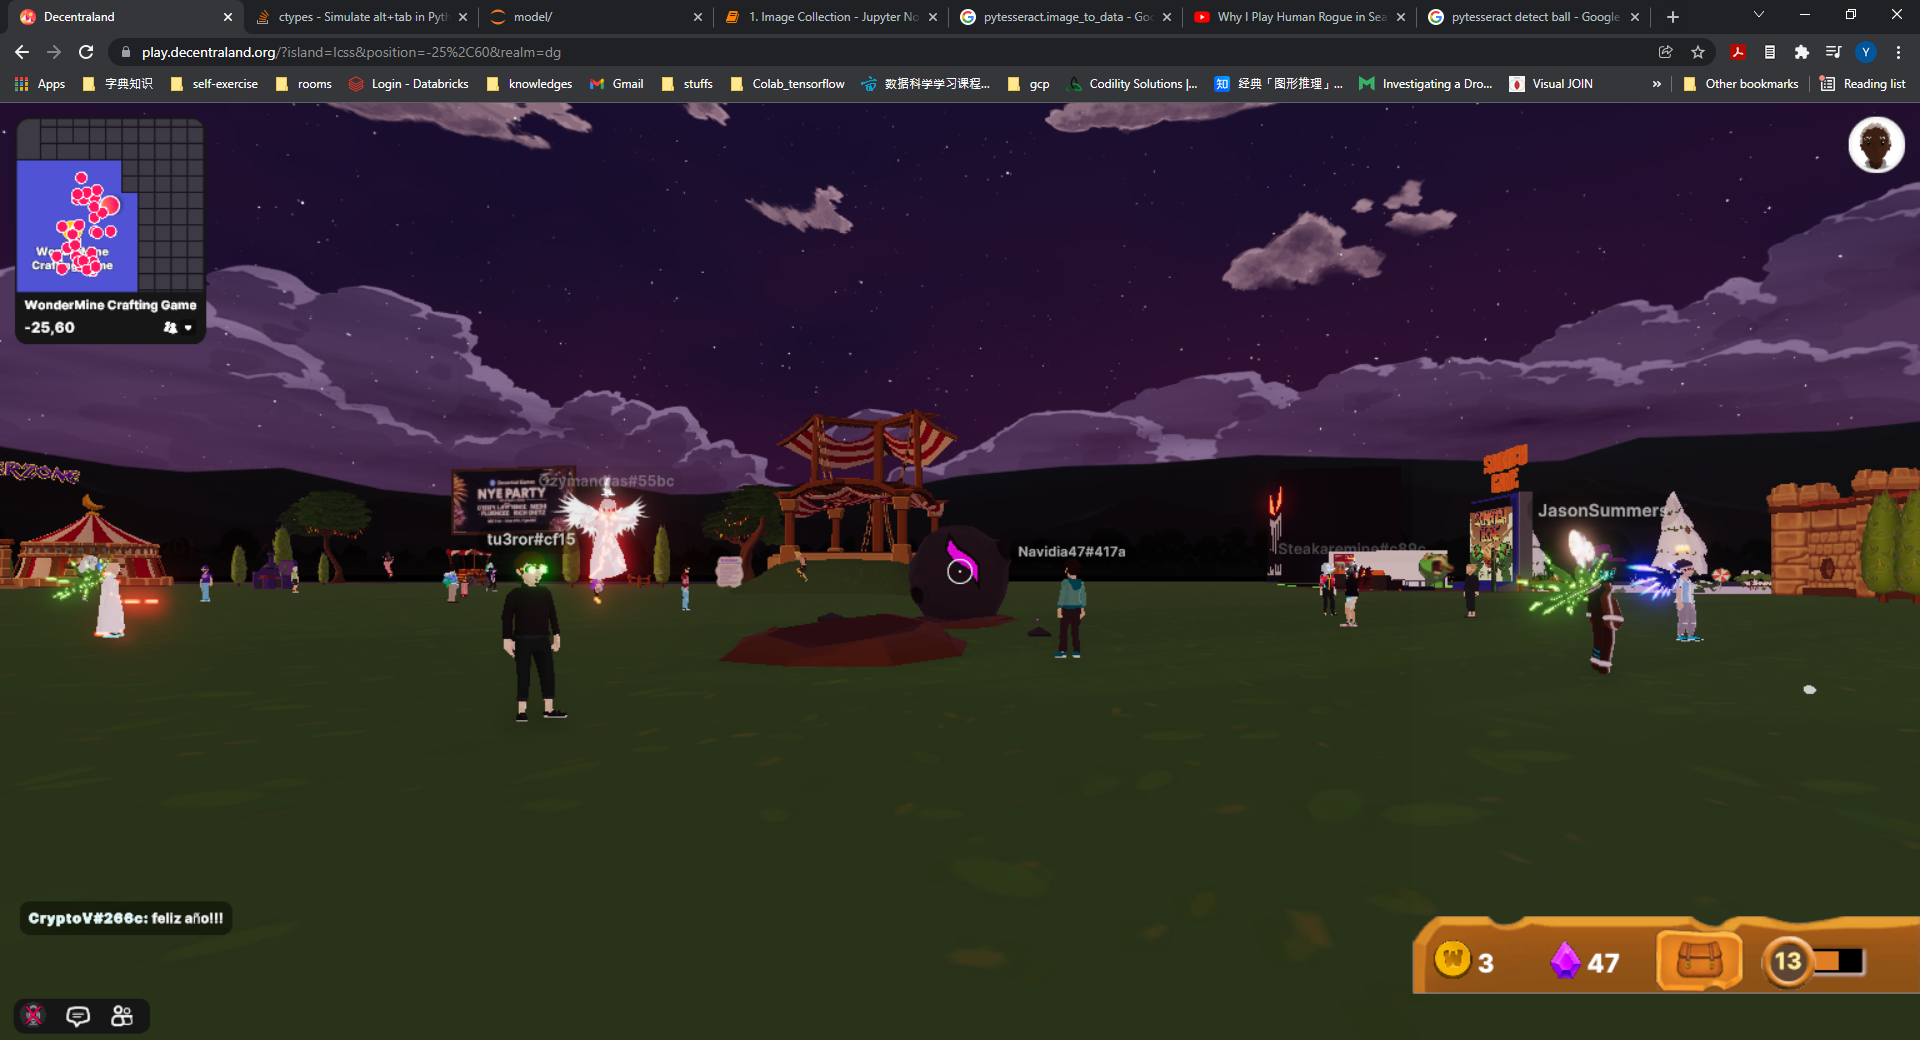black_ball: (892, 511, 1027, 646)
